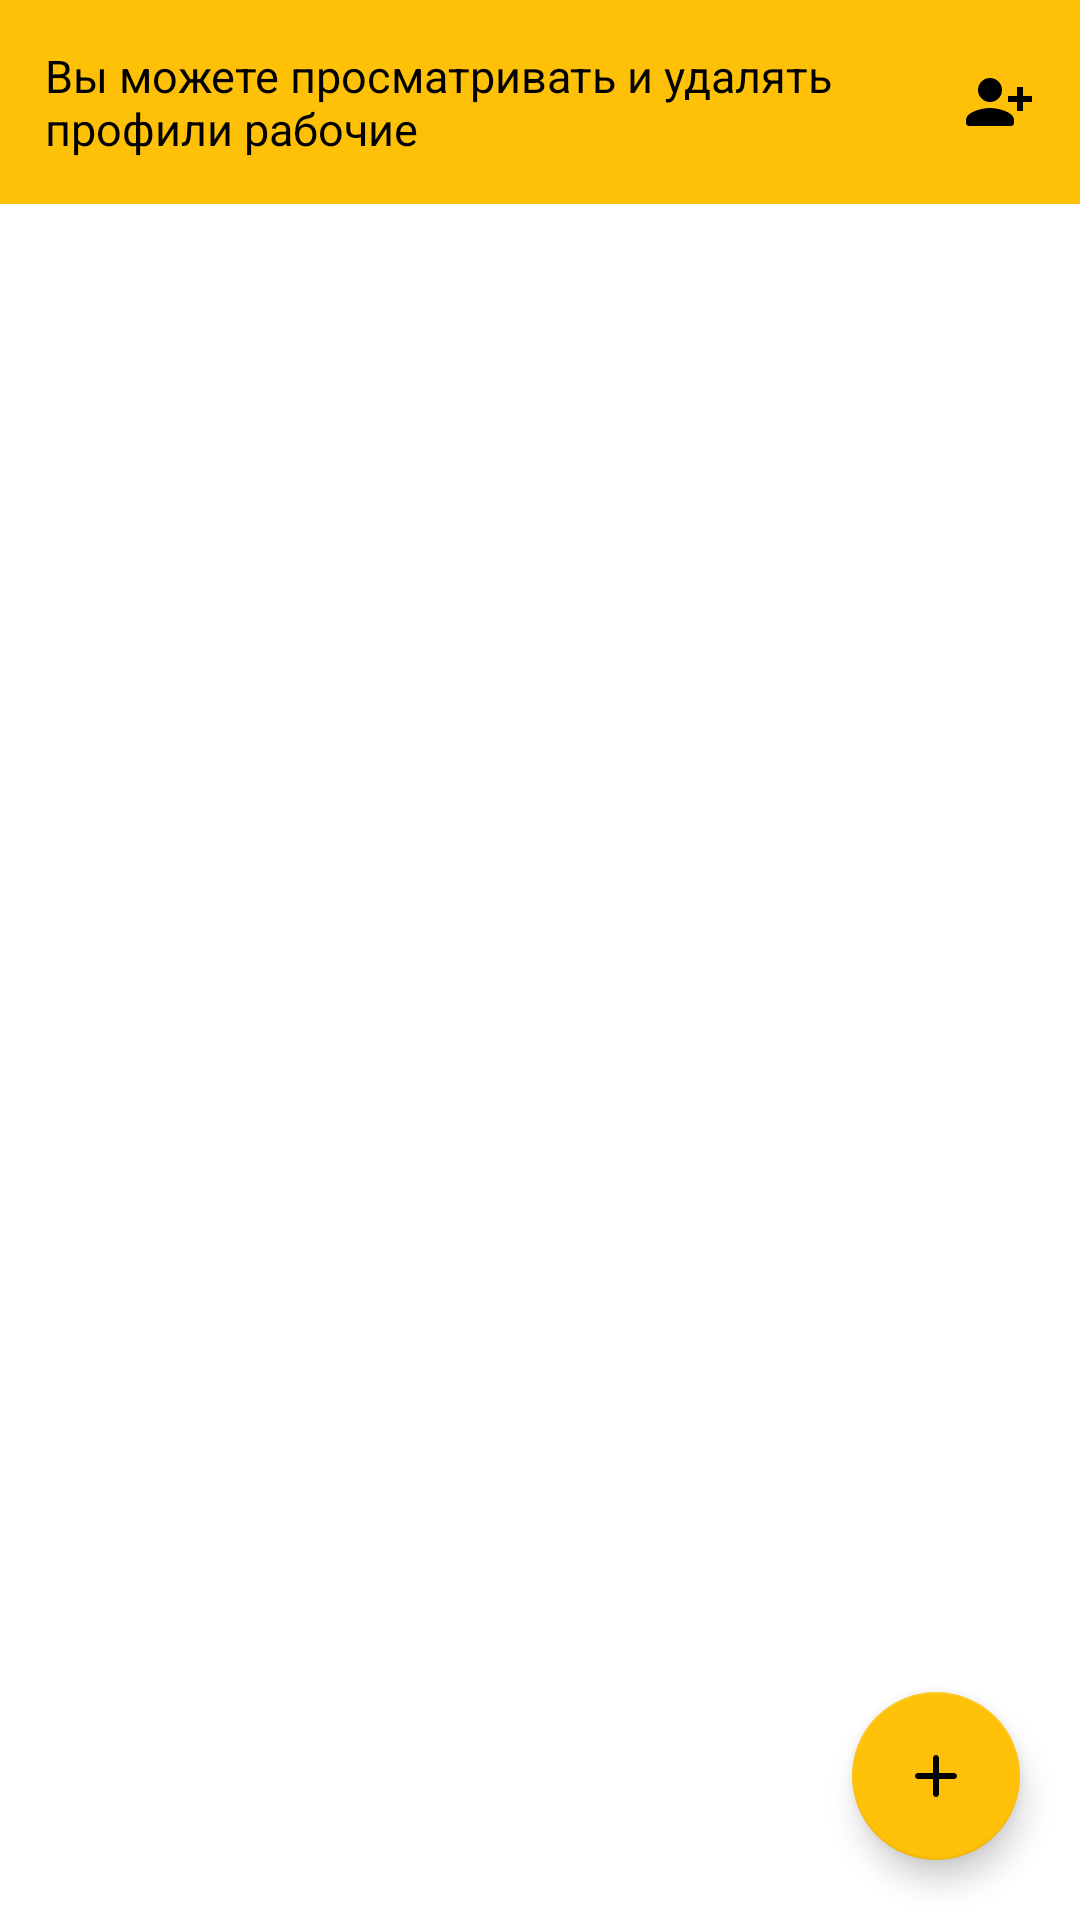

Icon bounding boxes for this 1080 x 1920 phone screenshot, format (left=x1, top=y1, right=x2, bottom=y2):
add: (left=852, top=1692, right=1020, bottom=1860)
person add: (left=966, top=78, right=1032, bottom=126)
